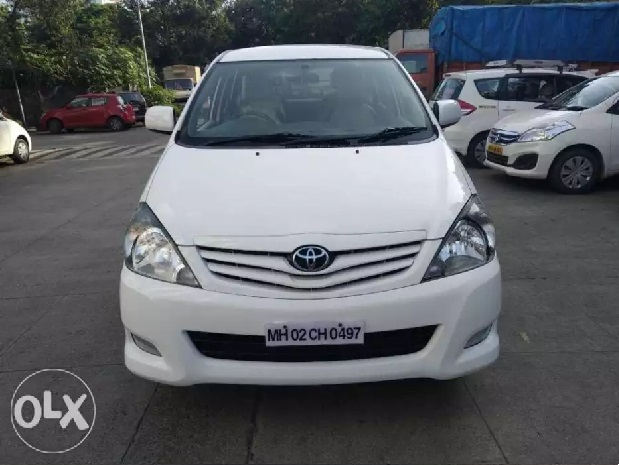licenseplate: (261, 317, 368, 347)
